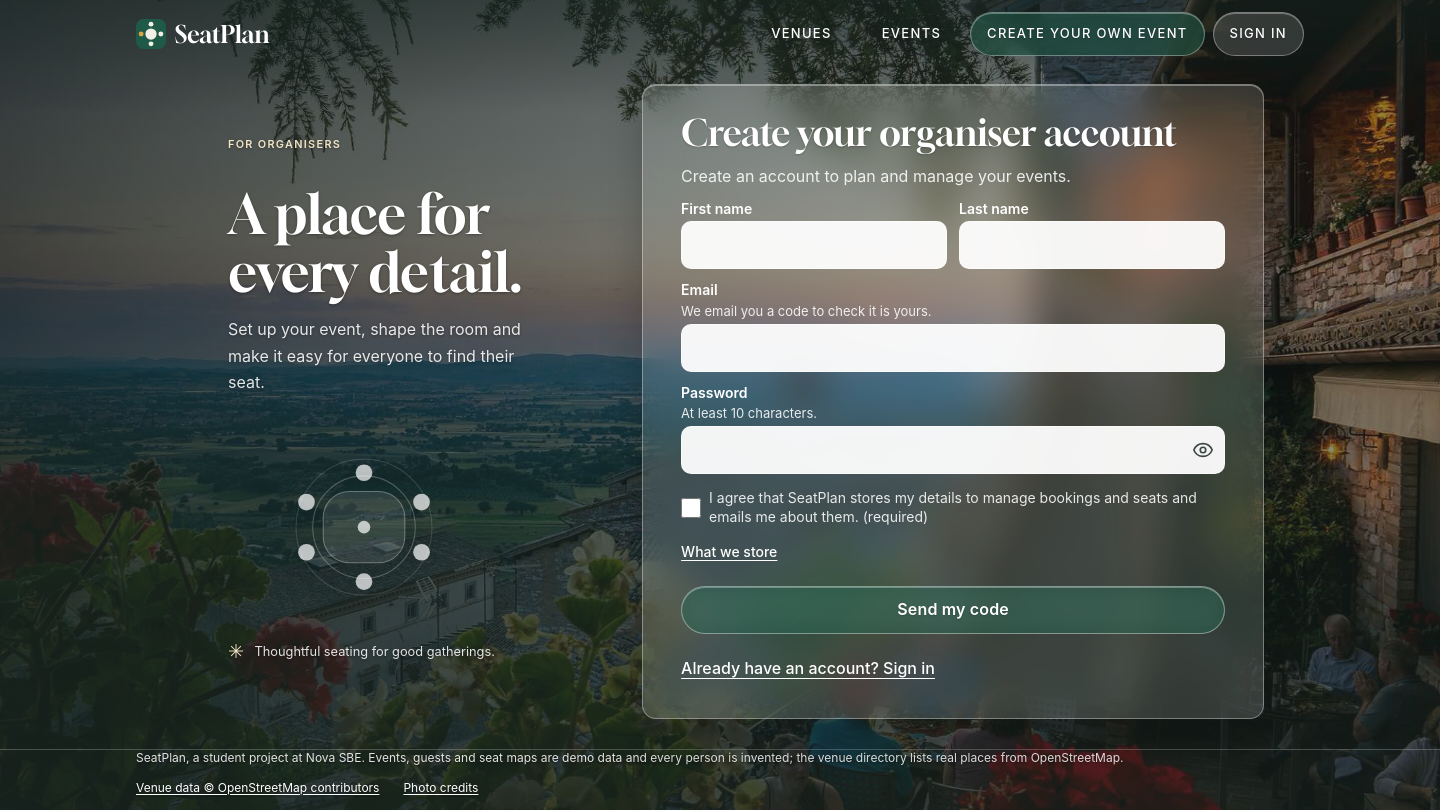
Test: organiser register › goes back to the form to use a different email, with the password cleared
The image size is (1440, 810).
Type "Alex" into the field labelled "First name" at (814, 245), box [681,221,947,269]
Type "Smith" into the field labelled "Last name" at (1092, 245), box [959,221,1225,269]
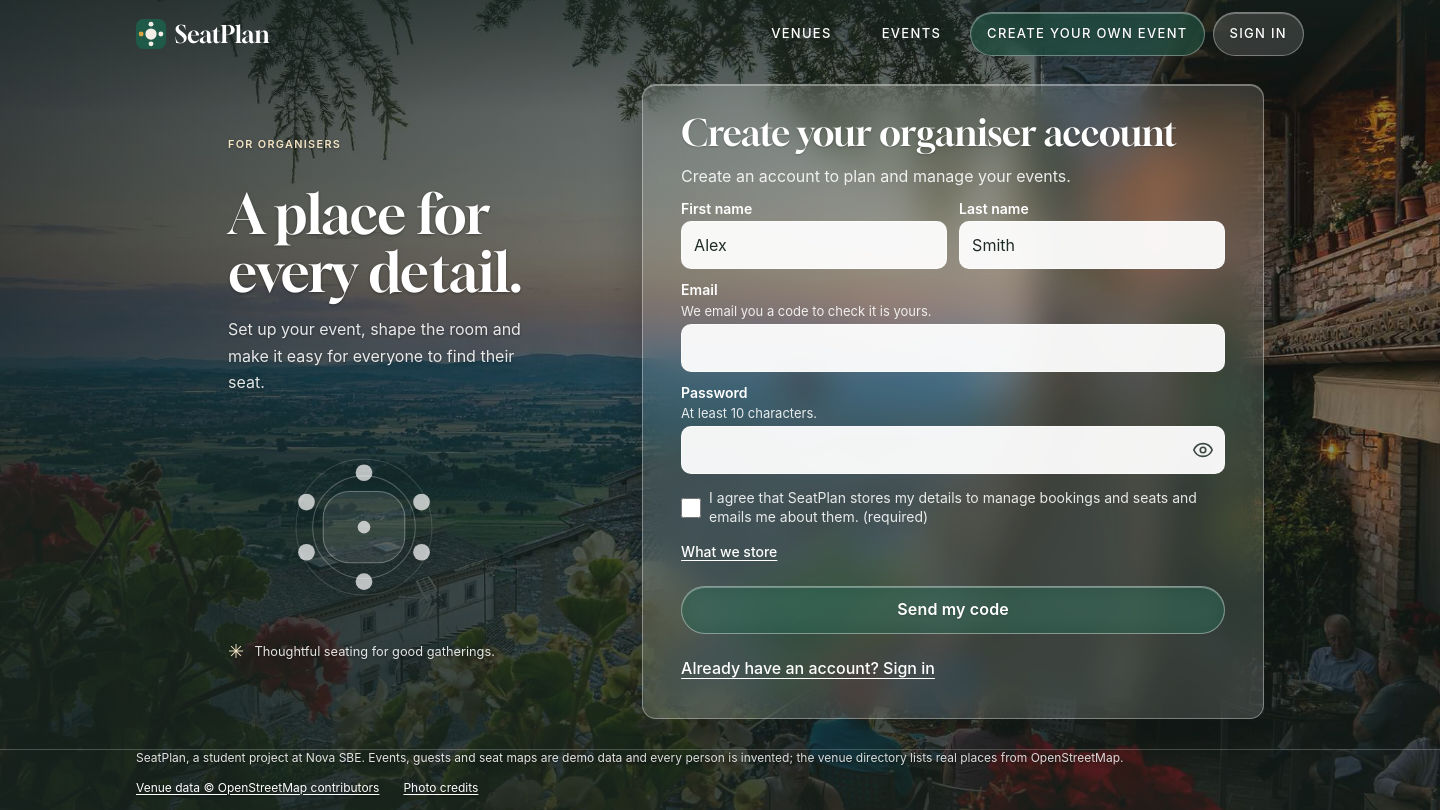
Type "alex@example.org" into the field labelled "Email" at (953, 348), box [681,324,1225,372]
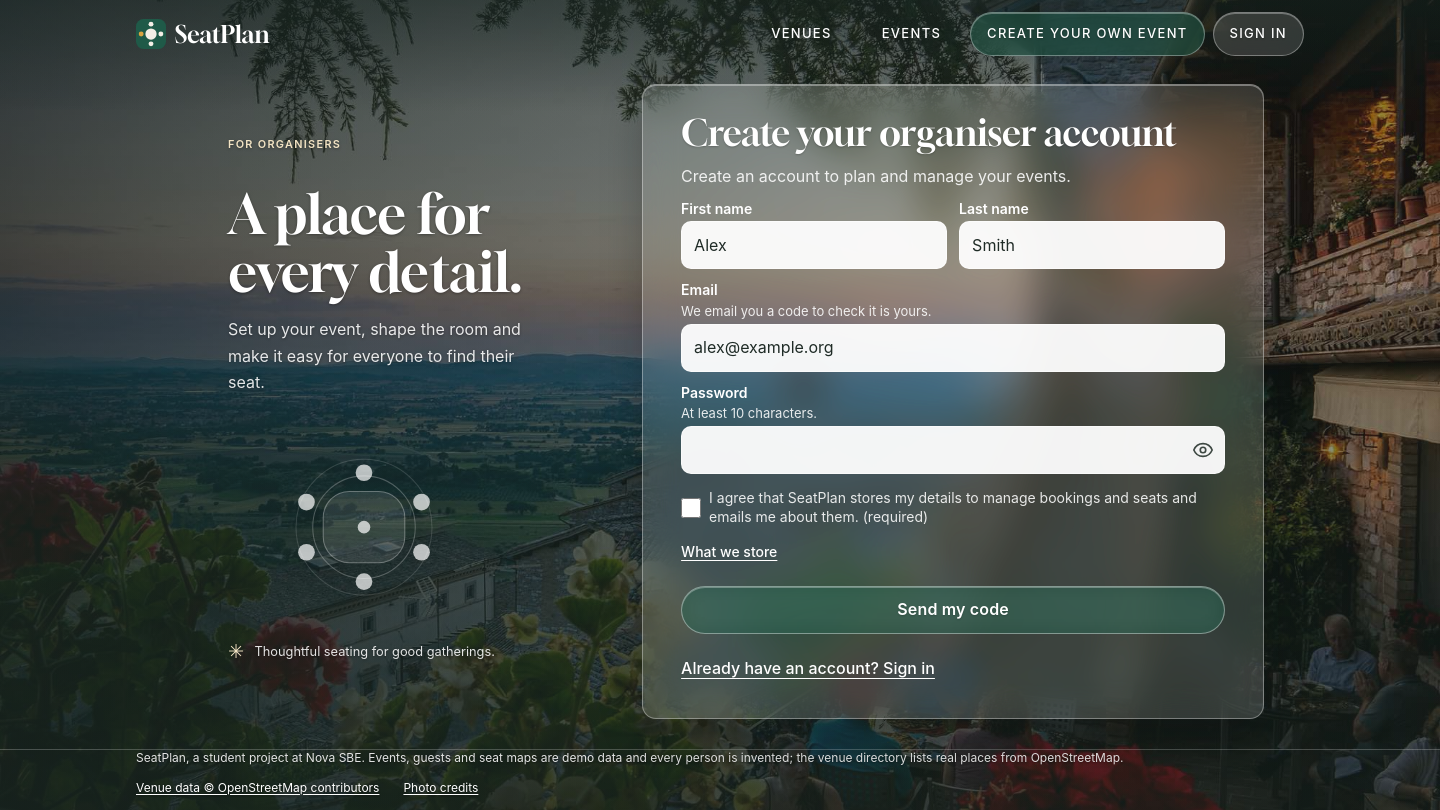
Type "a-long-password" into the password field labelled "Password" at (953, 450), box [681,426,1225,474]
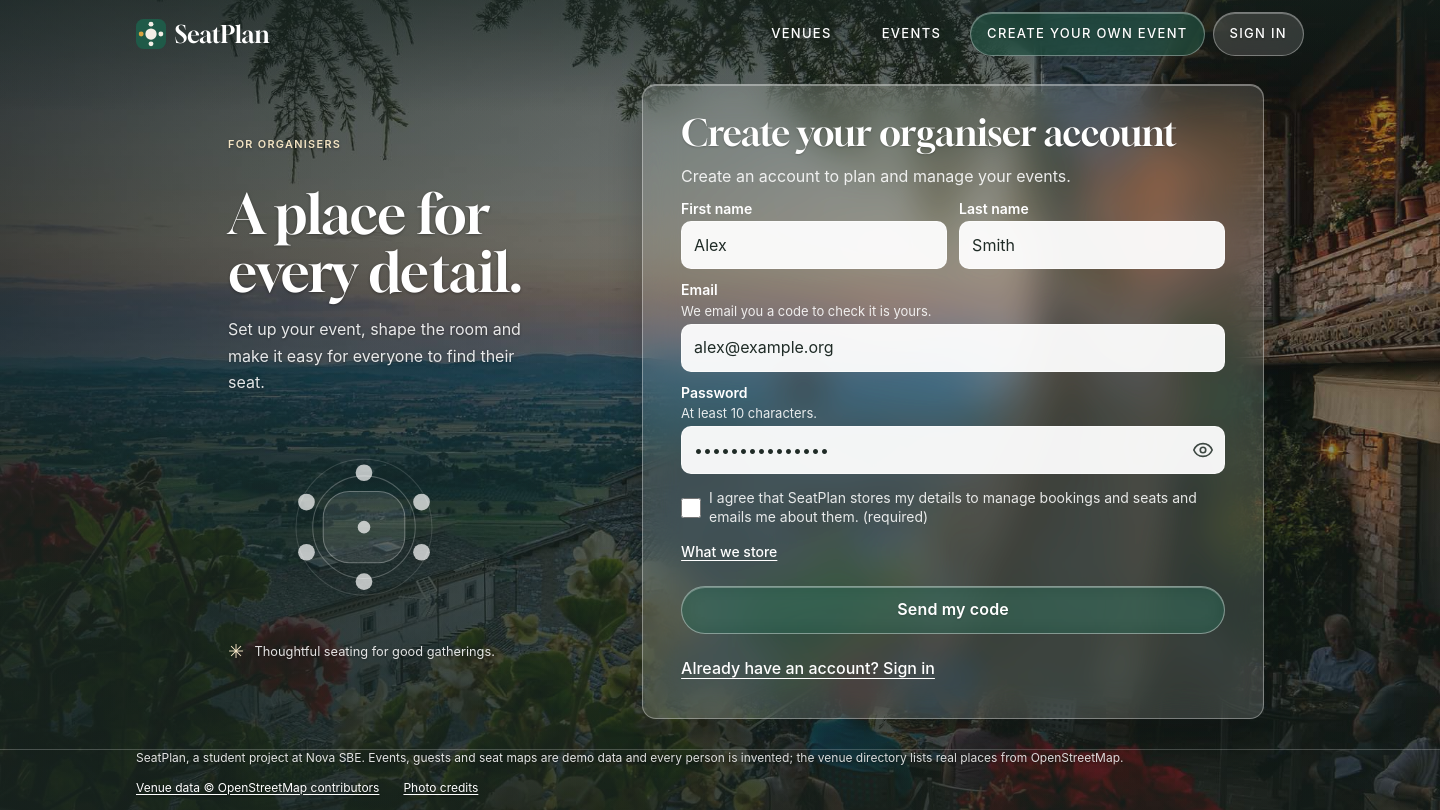
Click the checkbox labelled "I agree that SeatPlan" at (691, 508), box [681,498,701,518]
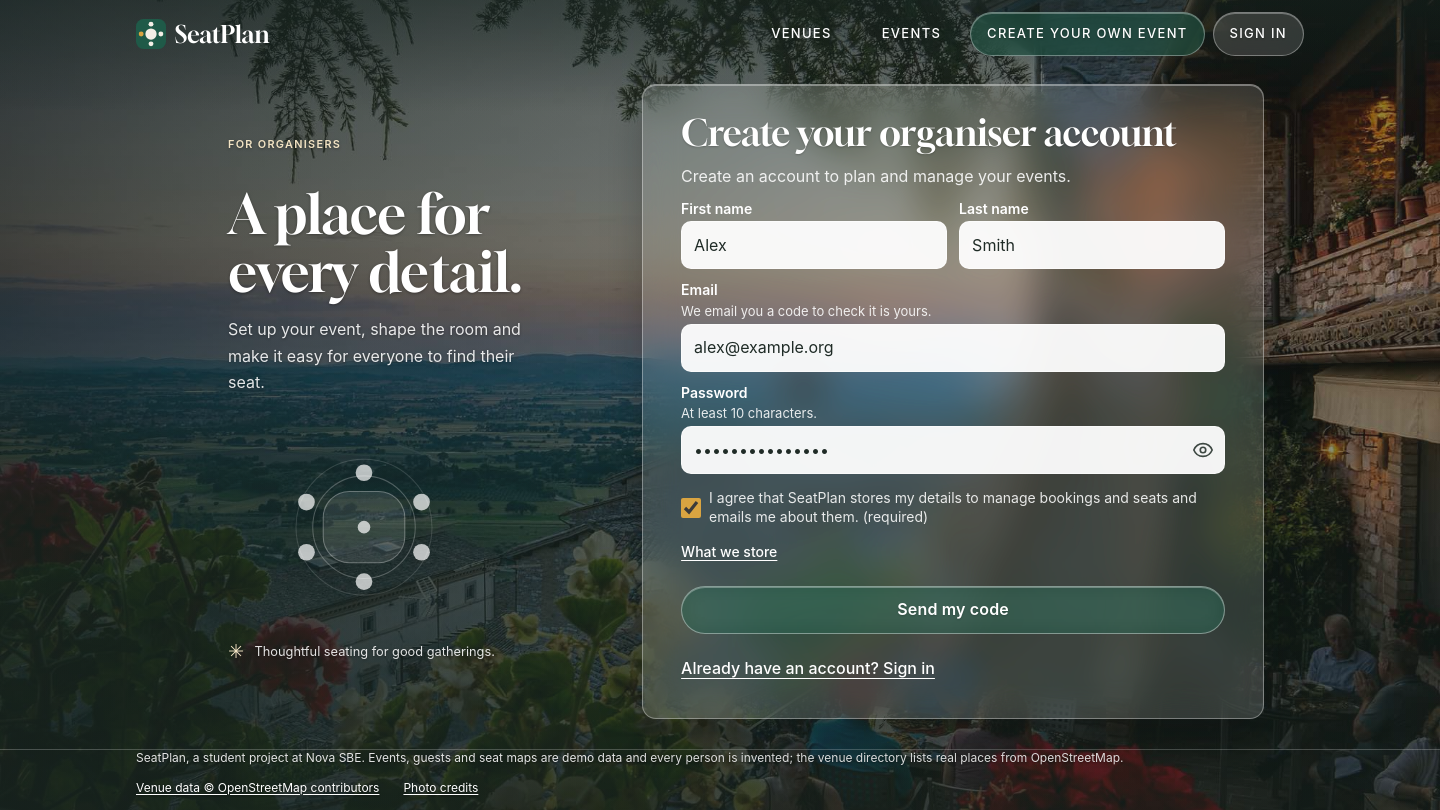
Click the button "Send my code" at (953, 610), box [681,586,1225,634]
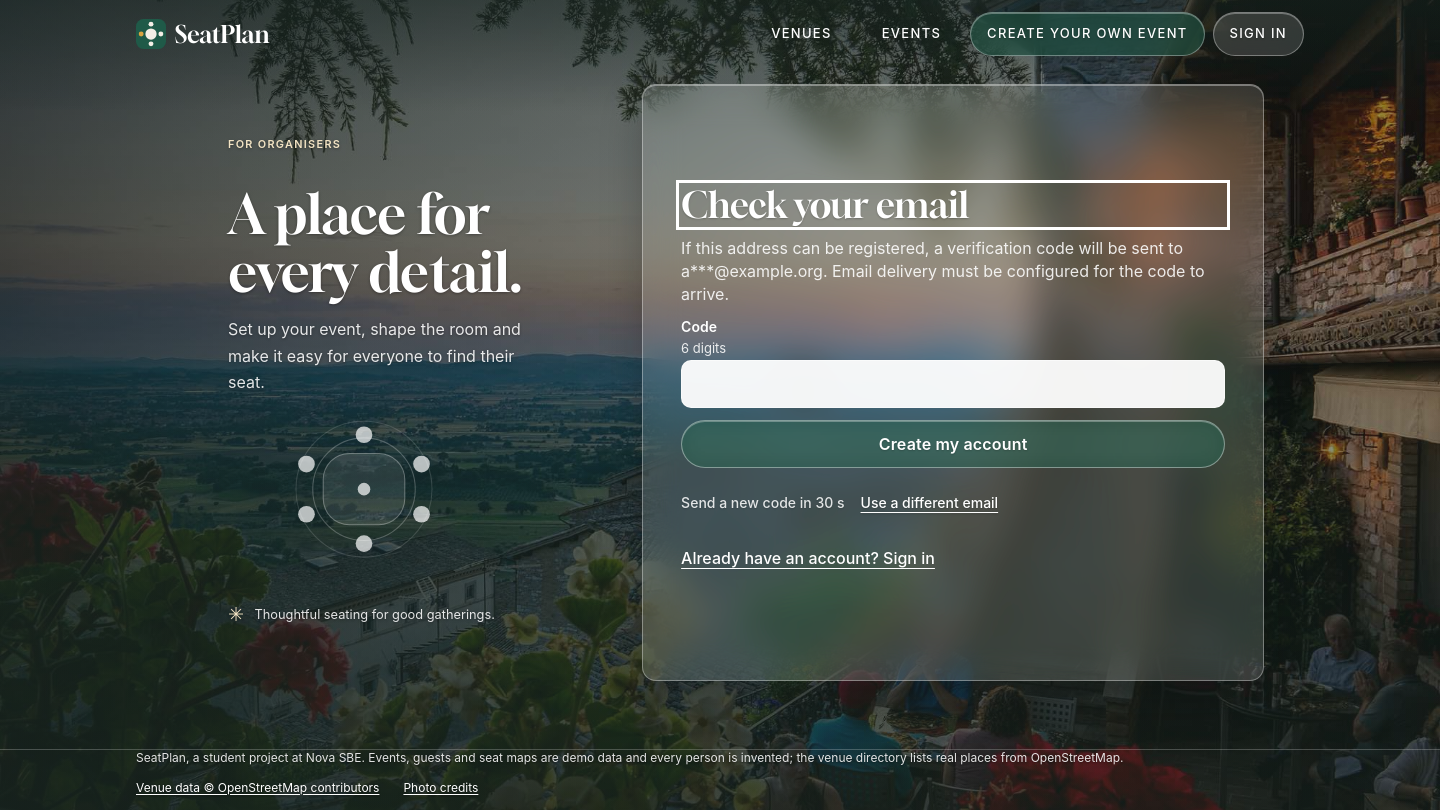
Click the button "Use a different email" at (929, 502), box [860,480,998,524]
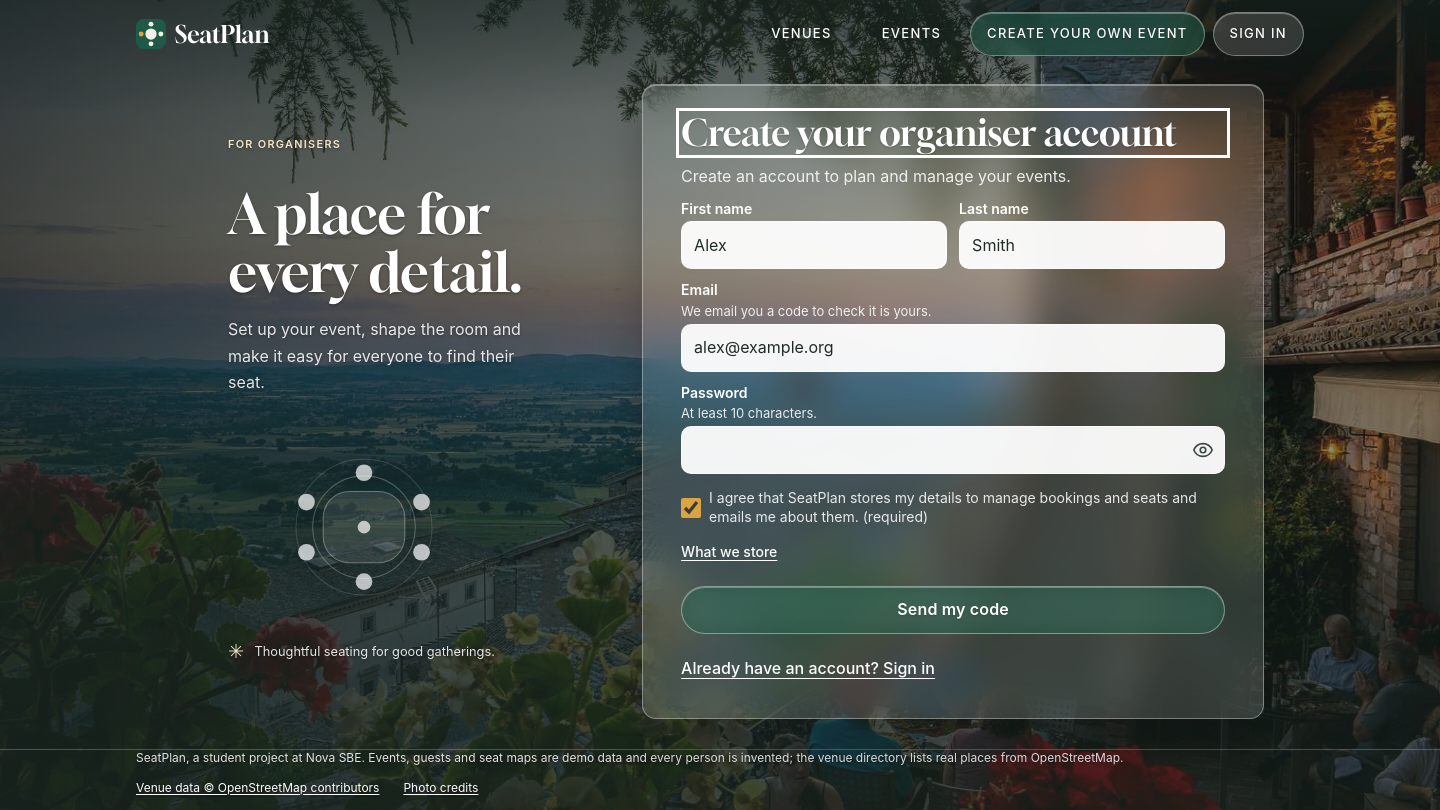
Expected: the field labelled "Email" holds "alex@example.org", [681,324,1225,372]
Expected: the password field labelled "Password" is empty, [681,426,1225,474]
Expected: the field labelled "First name" holds "Alex", [681,221,947,269]
